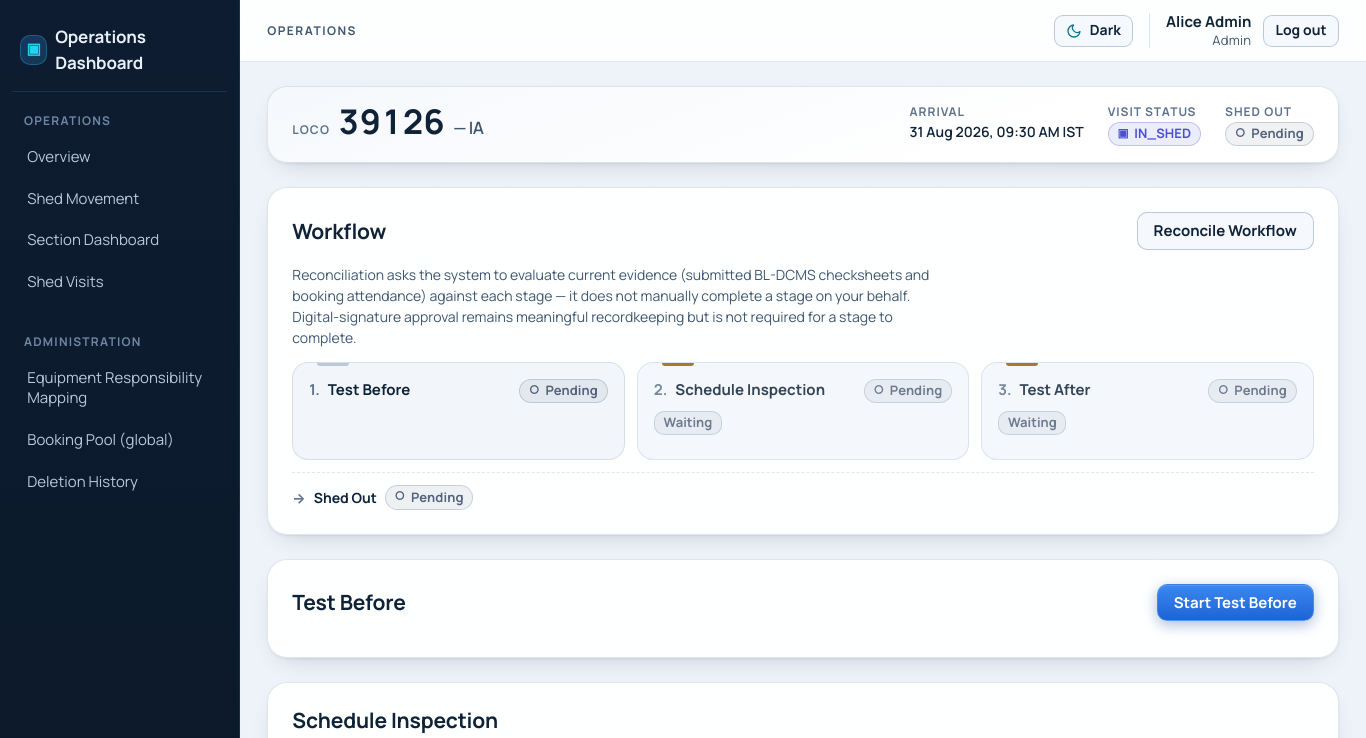
ShedVisitWorkflowPage › shows a structured blocker when completion is rejected
The width and height of the screenshot is (1366, 738).
Click the button "Start Test Before" at [1235, 602], box [1157, 584, 1314, 621]
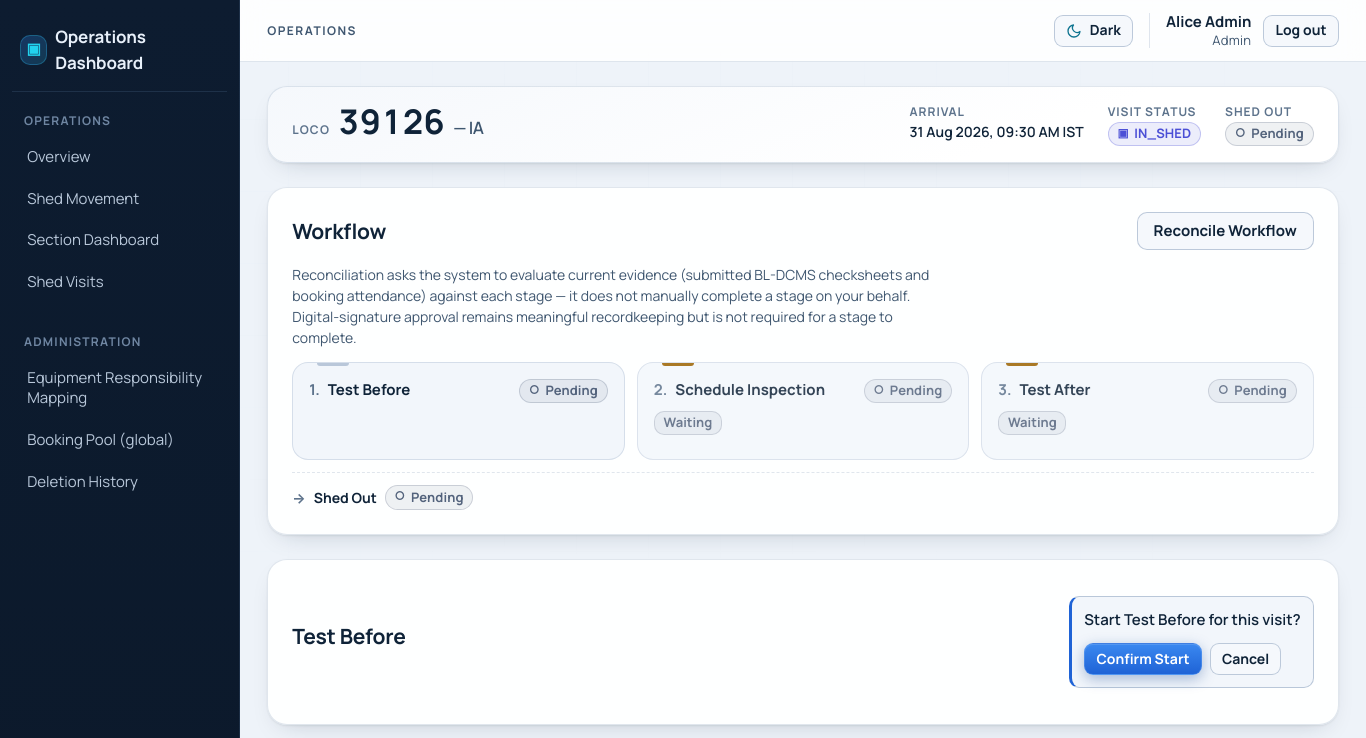
Click the button "Confirm Start" at [1143, 659], box [1084, 643, 1202, 675]
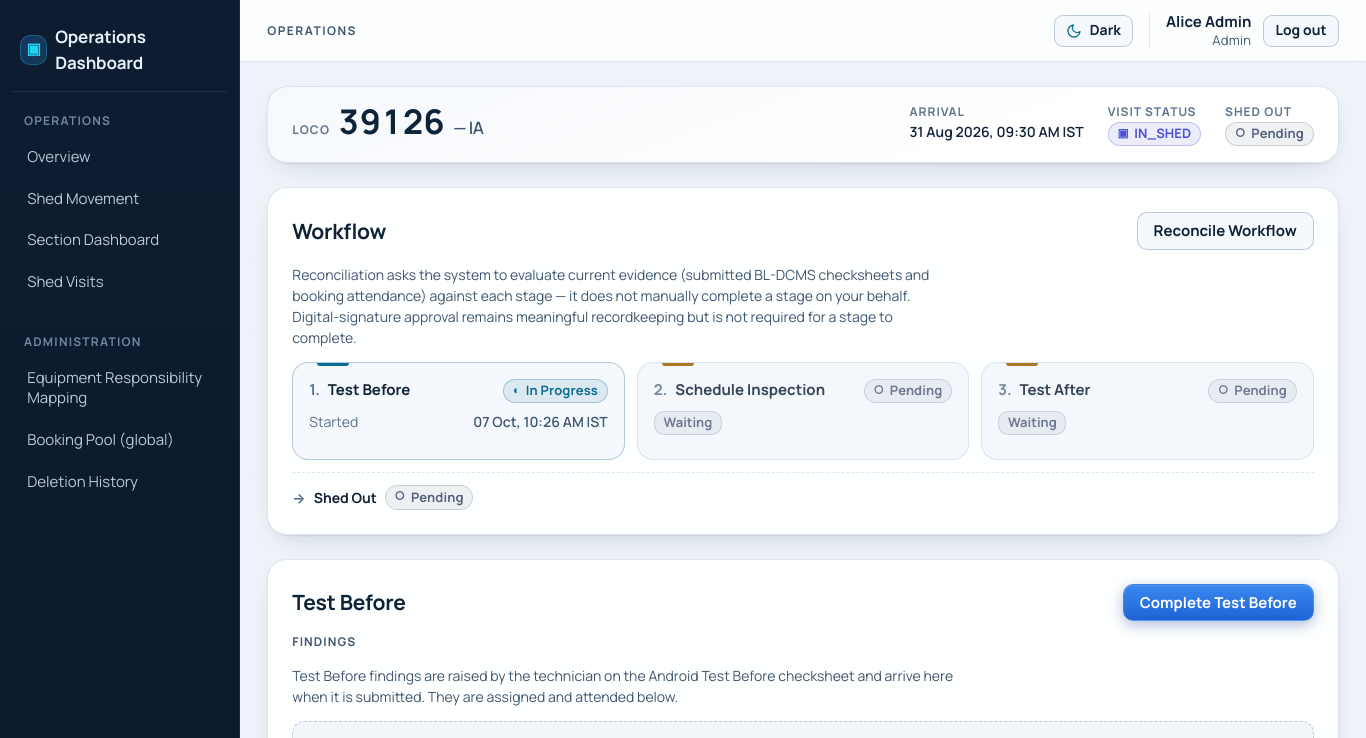
Click the button "Complete Test Before" at [1218, 602], box [1123, 584, 1314, 621]
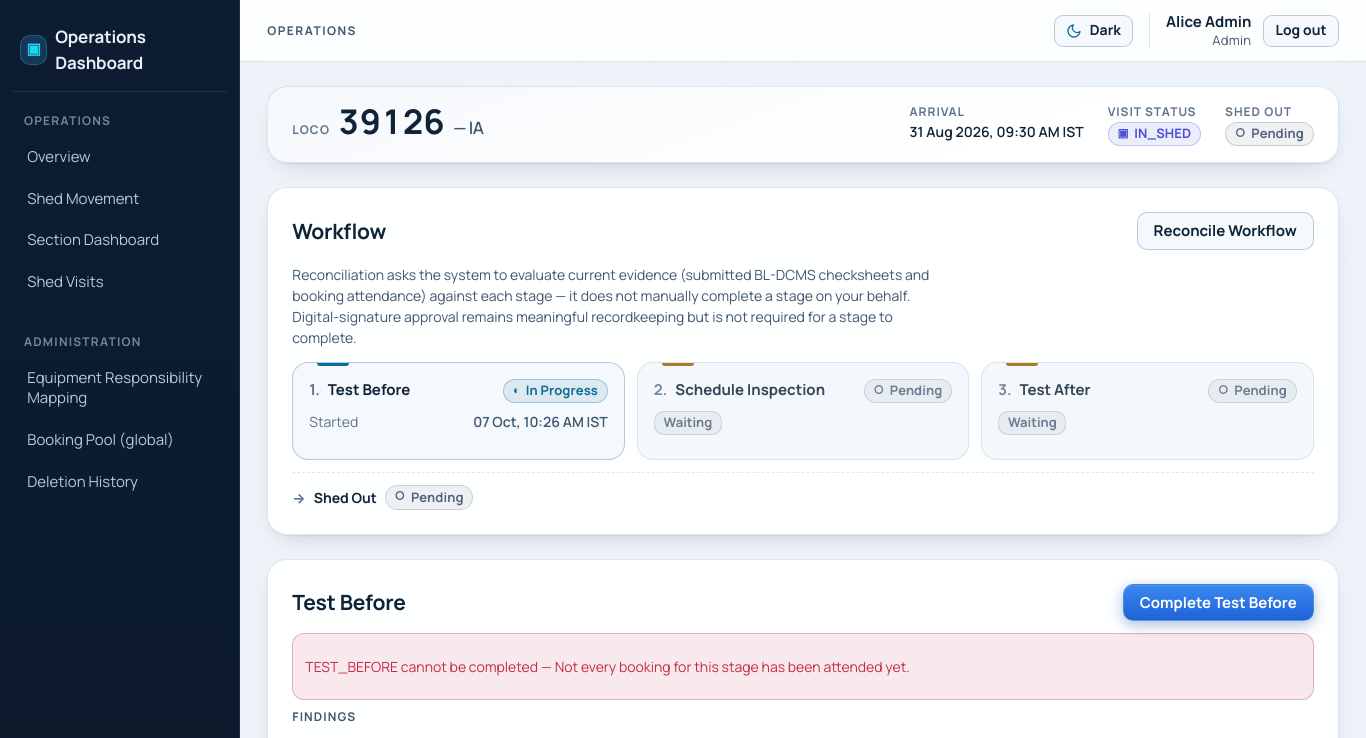
Check: the text "not every booking for this stage has been attended yet" is shown, box [555, 657, 910, 676]
